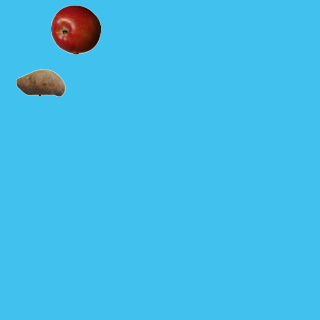Apple Braeburn: (50, 4, 100, 54)
Potato Sweet: (15, 57, 65, 107)
